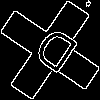D: (25, 25, 81, 83)
